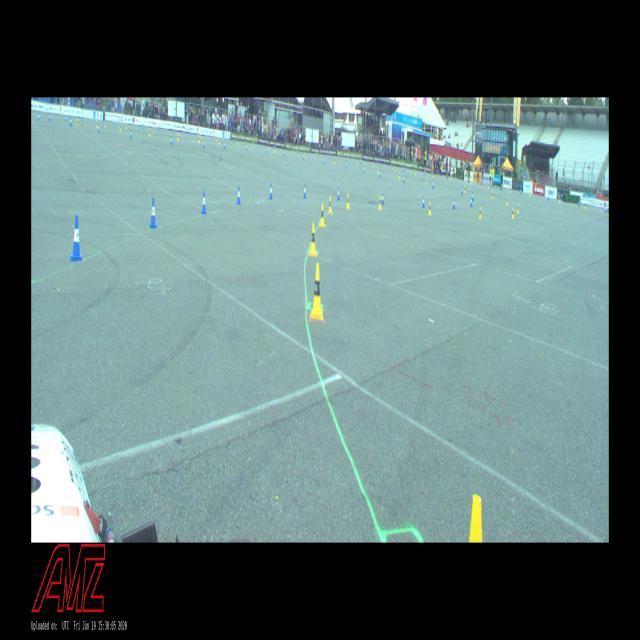blue_cone: (70, 215, 82, 261), (150, 198, 157, 228), (202, 190, 206, 213), (269, 184, 273, 199), (237, 186, 240, 204), (303, 184, 306, 198), (422, 196, 425, 208), (382, 192, 384, 205), (338, 188, 340, 200), (453, 198, 455, 209), (130, 130, 132, 139), (70, 117, 72, 126), (98, 124, 100, 133), (203, 140, 205, 148), (470, 198, 472, 206), (472, 193, 474, 201), (432, 181, 434, 188), (403, 175, 405, 182), (578, 200, 580, 207), (266, 147, 268, 153), (461, 188, 463, 194), (172, 127, 174, 133), (171, 136, 172, 144), (380, 170, 381, 178), (363, 166, 364, 173), (224, 142, 225, 148), (297, 148, 298, 154), (346, 162, 347, 168), (323, 157, 324, 163), (284, 150, 285, 156), (190, 130, 191, 136), (360, 158, 361, 164), (115, 120, 116, 125), (143, 124, 144, 129), (520, 189, 521, 194), (303, 154, 304, 159), (246, 145, 247, 150), (158, 126, 159, 131), (379, 162, 380, 167), (403, 166, 404, 171), (233, 138, 234, 142), (38, 113, 38, 119), (50, 114, 50, 120), (424, 169, 424, 175), (66, 116, 66, 121), (606, 207, 606, 212), (274, 144, 274, 149), (317, 153, 317, 157), (447, 174, 447, 178), (496, 184, 496, 188), (548, 194, 548, 200)
yellow_cone: (311, 263, 323, 319), (469, 495, 482, 543), (310, 223, 316, 256), (320, 204, 325, 227), (328, 196, 332, 213), (346, 193, 349, 208), (428, 202, 431, 214), (379, 197, 381, 210), (479, 208, 481, 218), (512, 209, 514, 218), (517, 204, 519, 213), (506, 197, 508, 204), (584, 202, 586, 209), (198, 136, 200, 142), (96, 121, 98, 127), (177, 134, 179, 140), (274, 146, 276, 152), (304, 152, 306, 158), (104, 122, 106, 127), (236, 140, 238, 145), (252, 142, 254, 147), (268, 144, 270, 149), (394, 166, 396, 171), (292, 148, 294, 153), (216, 137, 218, 141), (120, 123, 121, 130), (219, 138, 220, 144), (492, 192, 493, 198), (398, 172, 399, 178), (464, 186, 465, 192), (373, 162, 374, 168), (179, 130, 180, 136), (432, 172, 433, 178), (75, 119, 76, 124), (334, 158, 335, 163), (559, 197, 560, 202), (415, 170, 416, 174), (200, 134, 201, 138), (450, 176, 451, 180), (126, 125, 127, 128), (150, 129, 150, 136), (426, 177, 426, 184), (378, 167, 378, 173), (154, 127, 154, 132), (364, 164, 364, 169), (357, 160, 357, 165), (78, 119, 78, 124), (340, 158, 340, 162), (86, 120, 86, 126), (470, 180, 470, 183), (316, 153, 316, 158), (488, 184, 488, 188), (510, 187, 510, 192), (530, 191, 530, 196), (608, 209, 608, 215)
